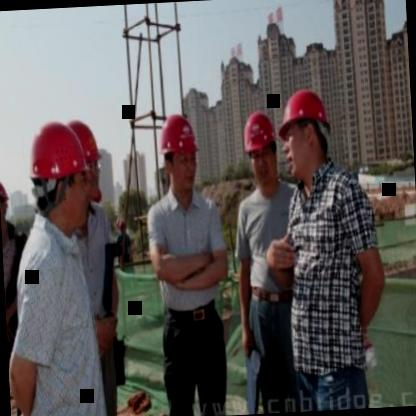helmet: (26, 118, 90, 233), (280, 84, 334, 180), (156, 110, 203, 201), (239, 106, 282, 191), (74, 119, 104, 208)
